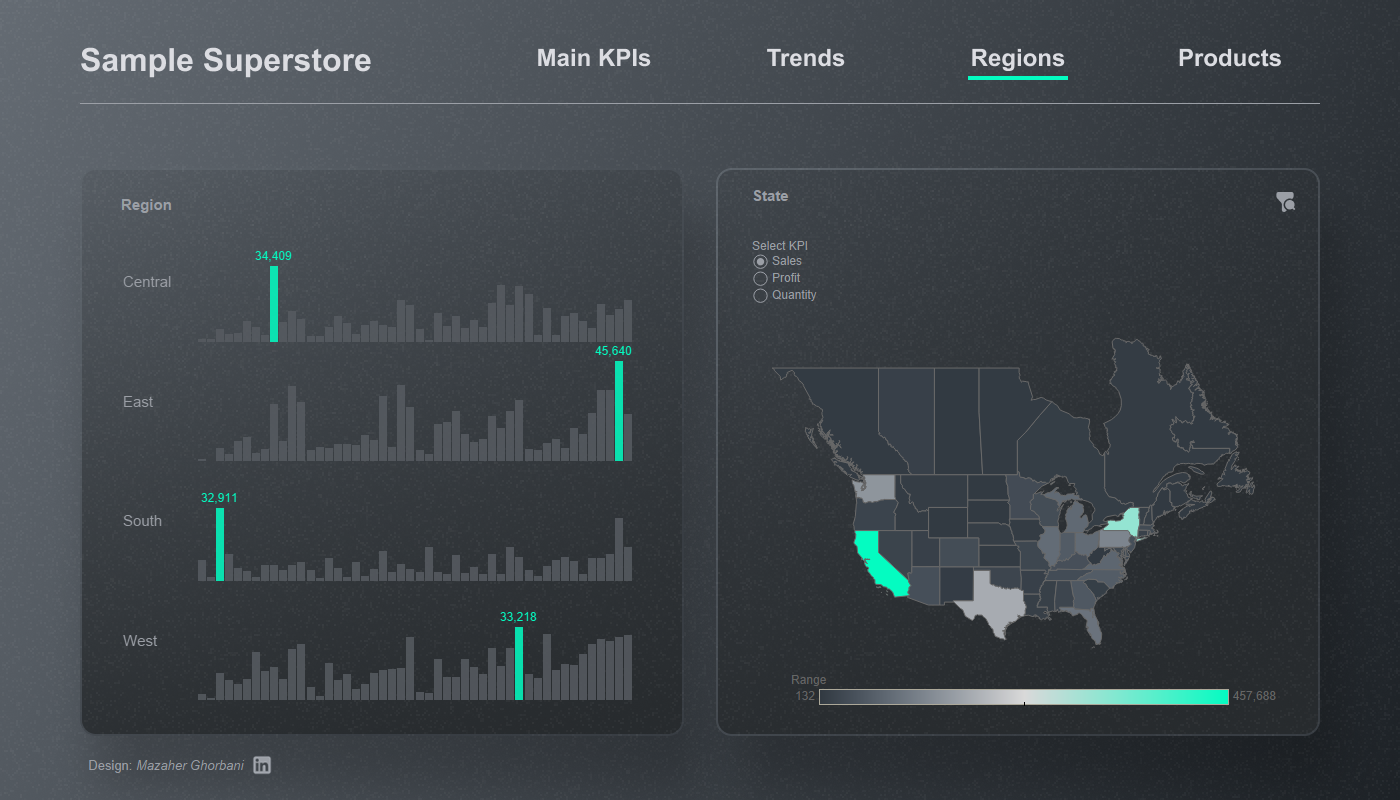

What the dashboard file says about the page in this screenshot:
{"tool":"tableau","page":{"name":"Regional Analysis","canvas":[1400,800],"ordinal":2},"visuals":[{"type":"image","param":"Image/Region Analysis.png","box":[0,0,1400,800]},{"type":"dashboard-object","box":[1160,136,24,24]},{"type":"worksheet","title":"Reset Filters","mark":"Shape","cols":["Calculation_707909609538879489"],"box":[1216,136,24,24]},{"type":"dashboard-object","box":[1272,136,24,24]},{"type":"filter","title":"Regions","param":"[federated.0edz2lz09zrftf18khcru1ptet20].[yr:Order Date:ok]","box":[1120,181,174,54]},{"type":"dashboard-object","box":[64,200,100,64]},{"type":"worksheet","title":"States","mark":"Automatic","box":[792,224,487,455]},{"type":"worksheet","title":"Regions","mark":"Bar","rows":["Region","Calculation_707909609555533826"],"cols":["Order Date"],"box":[221,226,486,454]},{"type":"filter","title":"Regions","param":"[federated.0edz2lz09zrftf18khcru1ptet20].[none:Category:nk]","box":[1120,235,174,54]},{"type":"parameter","param":"[Parameters].[Parameter 1]","box":[797,258,127,46]},{"type":"dashboard-object","box":[64,264,100,64]},{"type":"filter","title":"Regions","param":"[federated.0edz2lz09zrftf18khcru1ptet20].[none:Sub-Category:nk]","box":[1120,289,174,54]},{"type":"dashboard-object","box":[64,328,100,64]},{"type":"filter","title":"Regions","param":"[federated.0edz2lz09zrftf18khcru1ptet20].[none:State/Province:nk]","box":[1120,343,174,54]},{"type":"dashboard-object","box":[64,392,100,64]},{"type":"filter","title":"Regions","param":"[federated.0edz2lz09zrftf18khcru1ptet20].[none:City:nk]","box":[1120,397,174,54]},{"type":"filter","title":"Regions","param":"[federated.0edz2lz09zrftf18khcru1ptet20].[none:Segment:nk]","box":[1120,451,174,54]},{"type":"dashboard-object","box":[64,456,100,64]},{"type":"legend","title":"States","param":"[federated.0edz2lz09zrftf18khcru1ptet20].[usr:Calculation_707909609555533826:qk]","box":[792,644,490,44]}]}

Visuals, with their boxes in screenshot pixels (x1, y1, x2, y2), scaled from the page's 1400x800 canvas onto the 1400x800 screenshot:
image: select_region(0, 0, 1399, 799)
dashboard-object: select_region(1160, 136, 1184, 160)
"Reset Filters" worksheet (Shape marks): select_region(1216, 136, 1240, 160)
dashboard-object: select_region(1272, 136, 1296, 160)
"Regions" filter: select_region(1120, 181, 1294, 235)
dashboard-object: select_region(64, 200, 164, 264)
"States" worksheet: select_region(792, 224, 1279, 679)
"Regions" worksheet (Bar marks): select_region(221, 226, 707, 680)
"Regions" filter: select_region(1120, 235, 1294, 289)
parameter: select_region(797, 258, 924, 304)
dashboard-object: select_region(64, 264, 164, 328)
"Regions" filter: select_region(1120, 289, 1294, 343)
dashboard-object: select_region(64, 328, 164, 392)
"Regions" filter: select_region(1120, 343, 1294, 397)
dashboard-object: select_region(64, 392, 164, 456)
"Regions" filter: select_region(1120, 397, 1294, 451)
"Regions" filter: select_region(1120, 451, 1294, 505)
dashboard-object: select_region(64, 456, 164, 520)
"States" legend: select_region(792, 644, 1282, 688)
